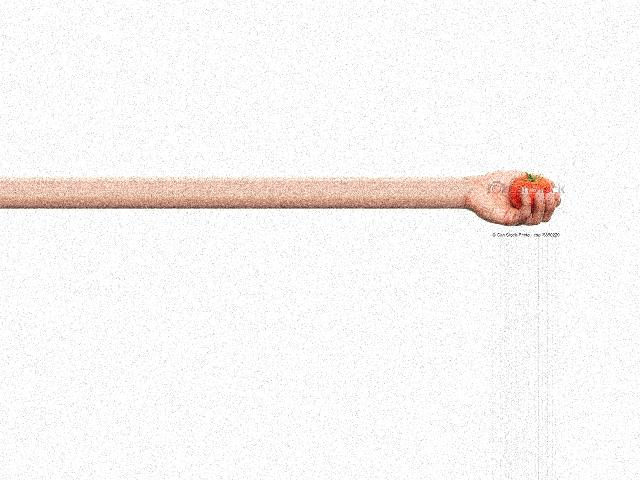tomato: (511, 175, 552, 211)
